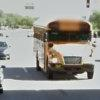Bus: (26, 15, 96, 77)
